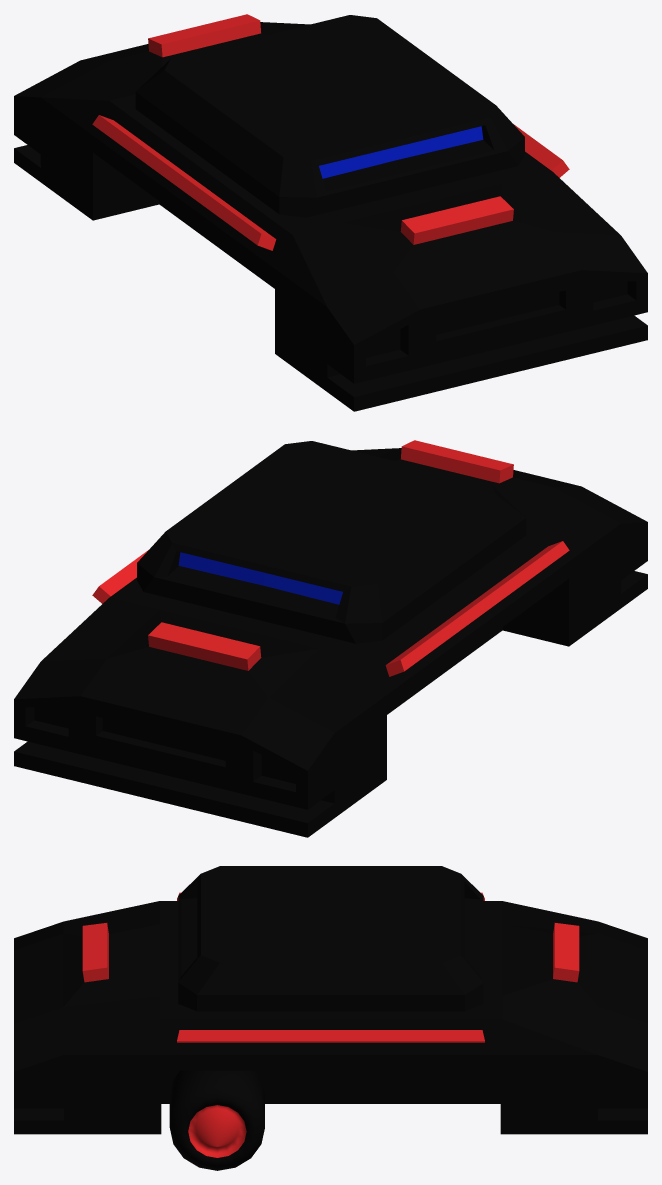
File: car_2.fbx
3 views of the same model, one above another, from view 1: azimuth 30°, elevation 25°; view 2: azimuth 150°, elevation 25°; view 3: azimuth 270°, elevation 25° (orthographic). The views are drawn at different scales.
Parts seen in each view (by area): view 1: Base_2, Top_2; view 2: Base_2, Top_2; view 3: Base_2, Top_2, Wheels_back.001.
Boxes of the visible parts, <box> form: Base_2: <box>14,14,647,411</box>; Top_2: <box>135,15,524,217</box>; Base_2: <box>14,440,647,837</box>; Top_2: <box>137,441,526,643</box>; Base_2: <box>14,892,647,1134</box>; Top_2: <box>178,866,483,1011</box>; Wheels_back.001: <box>169,1070,264,1170</box>.
Size of the model in its own units: 291 by 157 by 487.
